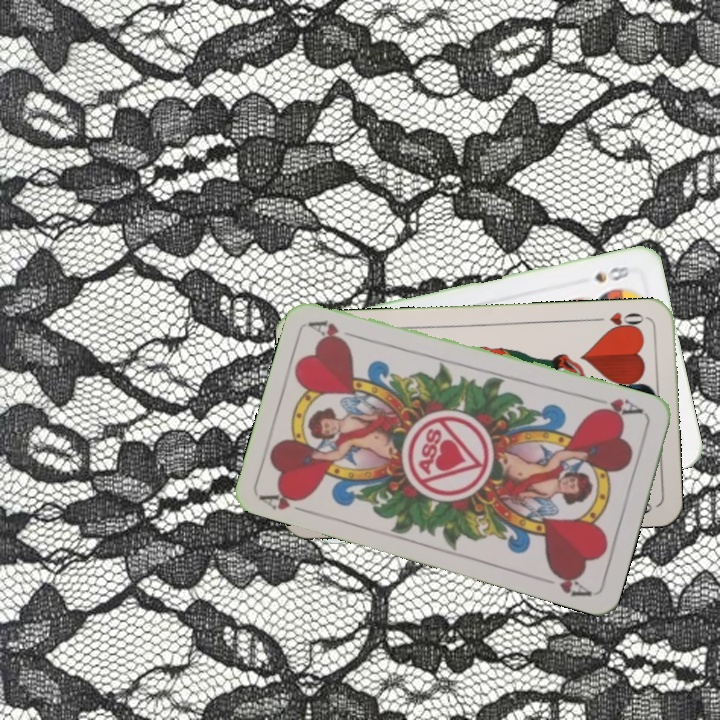HA: (257, 485, 316, 518), (589, 394, 646, 421)
HO: (590, 308, 649, 334)
S8: (590, 262, 632, 285)
